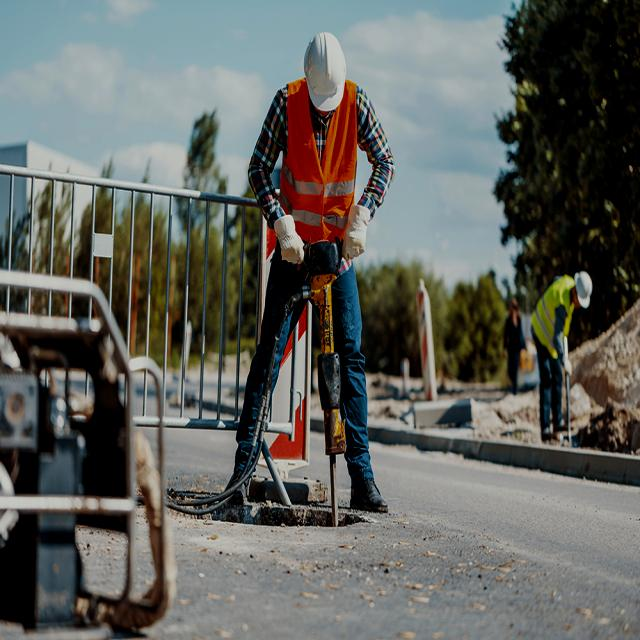Boots: (348, 478, 388, 512), (222, 466, 256, 504)
Gloves: (272, 212, 306, 270), (338, 203, 370, 259)
Hard Hat: (301, 30, 345, 114), (570, 267, 594, 312)
Reflective Vest: (278, 71, 360, 263), (529, 268, 575, 357)
